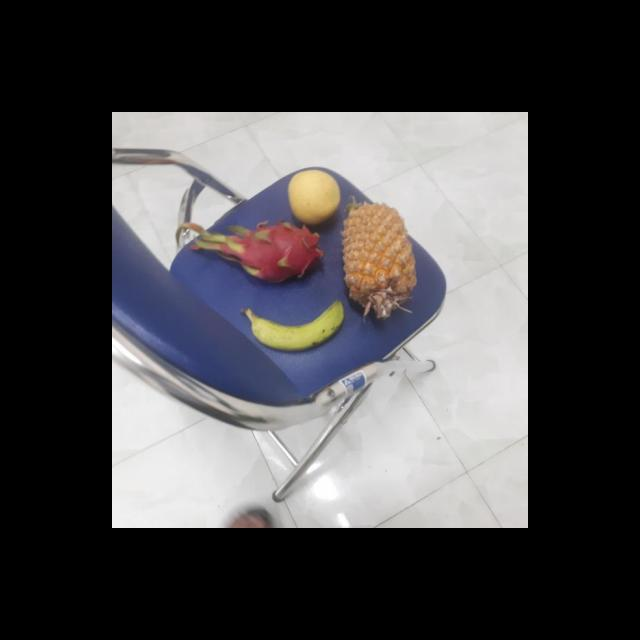banana: (248, 294, 341, 349)
pear: (287, 170, 341, 224)
pineapple: (338, 201, 418, 319)
pitaya: (210, 222, 320, 285)
